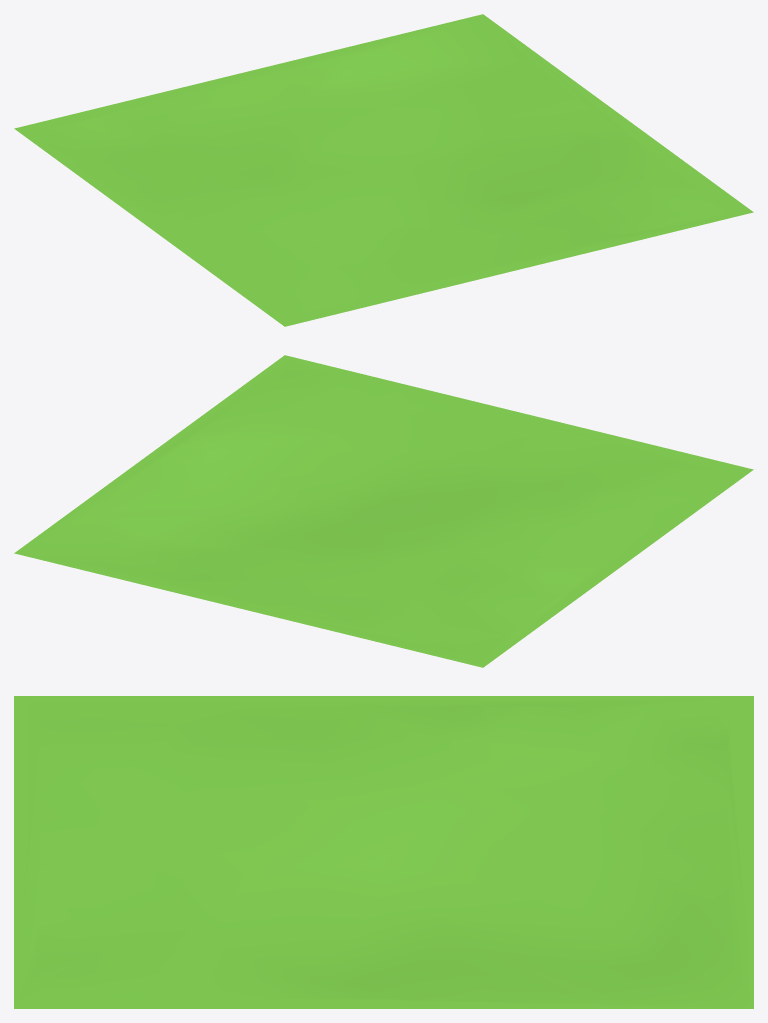
The model's file is GrassTile01.glb.
The picture shows the model from 3 angles, top to bottom: view 1: azimuth 30°, elevation 25°; view 2: azimuth 150°, elevation 25°; view 3: azimuth 270°, elevation 25°; orthographic projection. The views are drawn at different scales.
Parts seen in each view (by area): view 1: GrassTile05.002; view 2: GrassTile05.002; view 3: GrassTile05.002.
Part boxes in pixels (x1,y1,x2,y2): GrassTile05.002: [14, 14, 753, 326]; GrassTile05.002: [14, 355, 753, 667]; GrassTile05.002: [14, 696, 753, 1008].
Size of the model in its own units: 6 by 0.158 by 6.
1 material, 1 textured.
